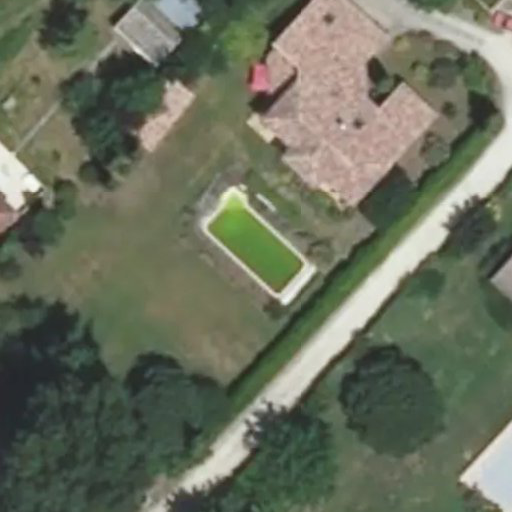pool: (198, 223, 313, 259)
